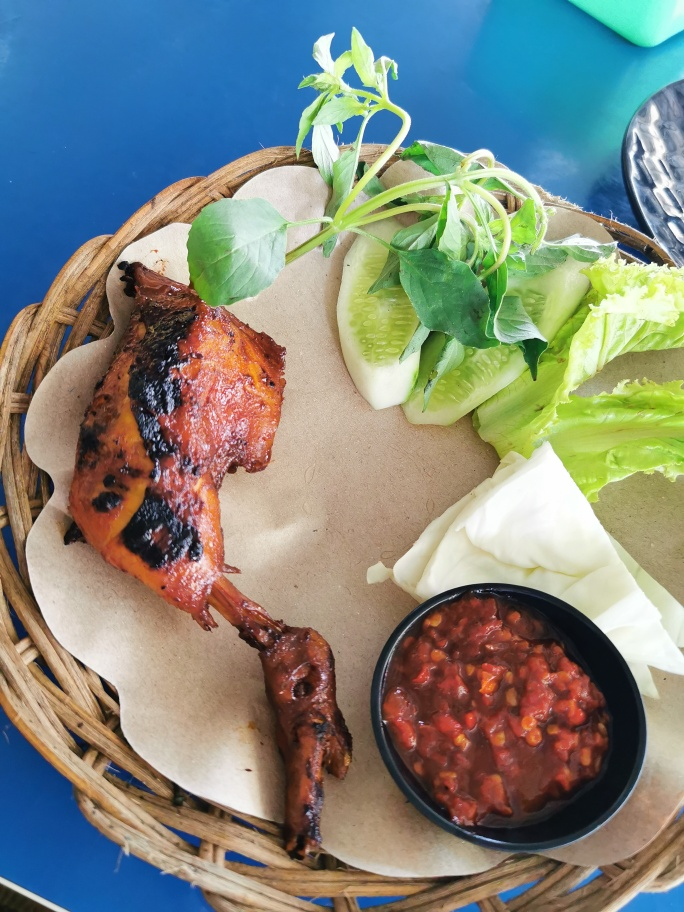ayam bakar: (78, 257, 366, 873)
